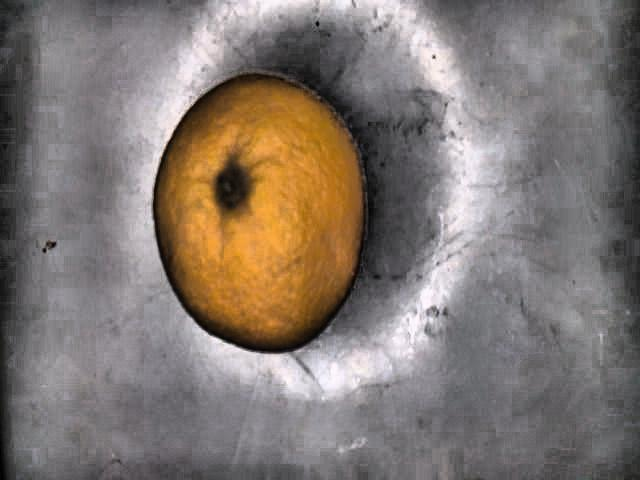Almennt: (151, 73, 366, 357)
